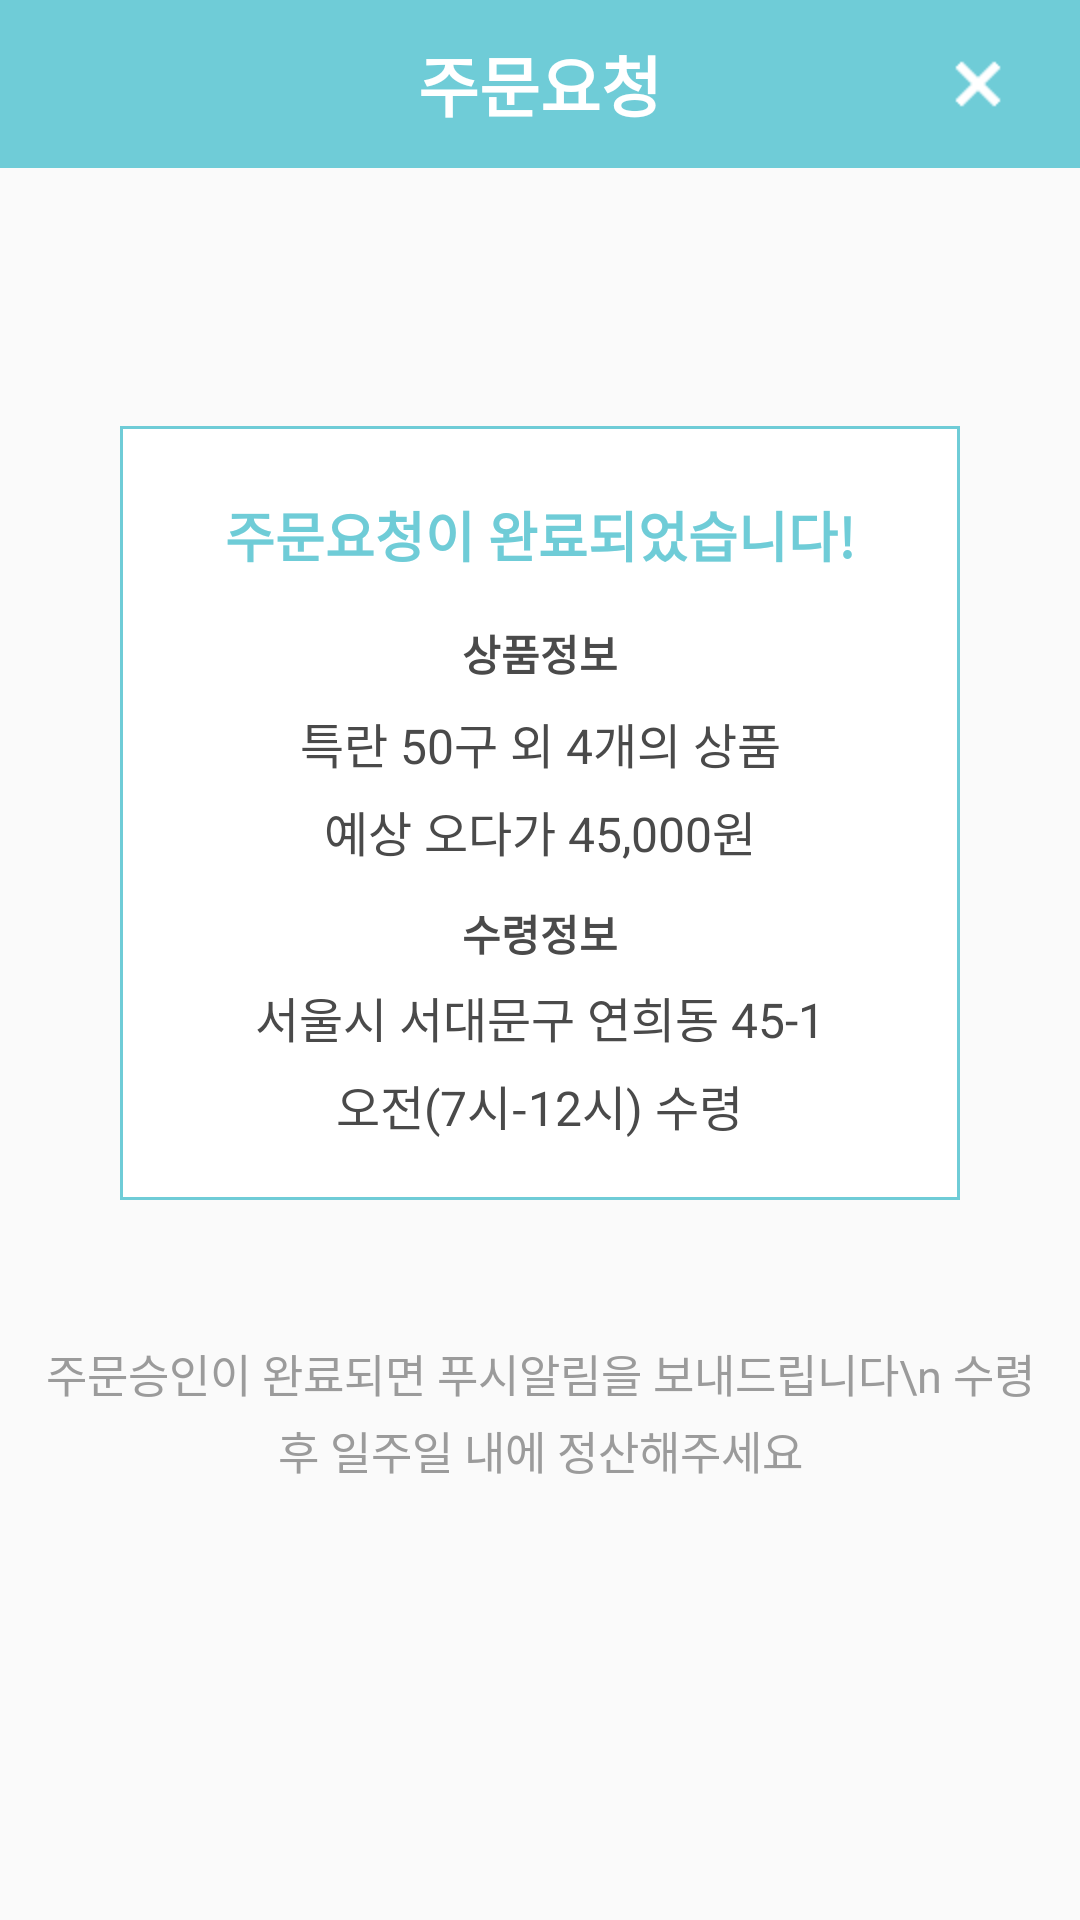

Where icons sit on this 1080×1920 app screen, as (x1, y1, x2, y2):
close: (955, 61, 1001, 107)
